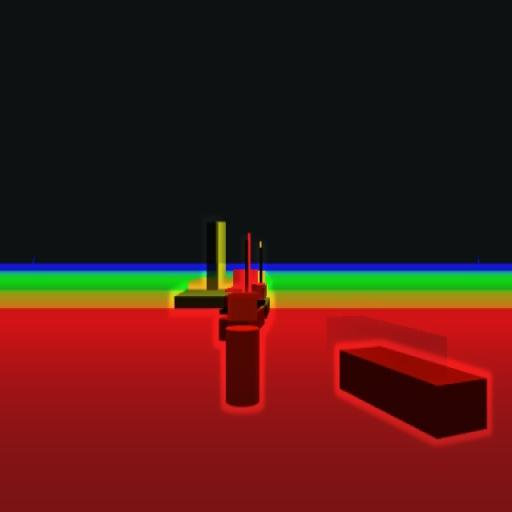buoy: (225, 284, 261, 412)
